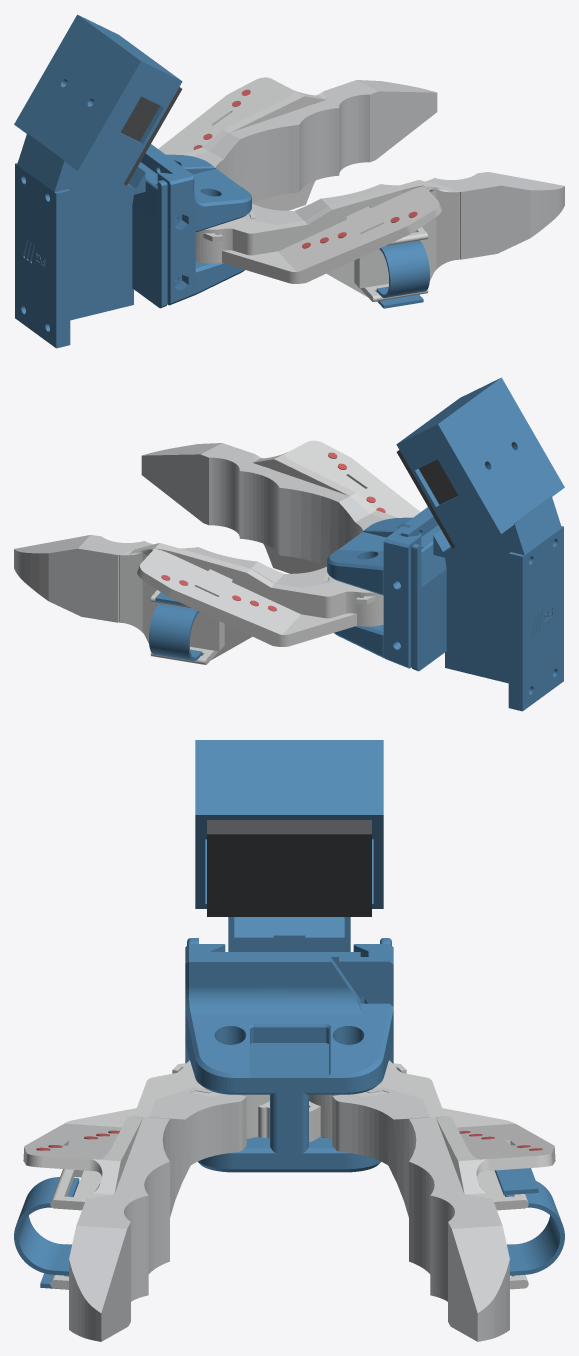
Rendered from pg_chopstick_data_d405.glb.
3 renders of one model, top to bottom at view 1: azimuth 30°, elevation 25°; view 2: azimuth 150°, elevation 25°; view 3: azimuth 270°, elevation 25°, orthographic. The views are drawn at different scales.
Parts seen in each view (by area): view 1: d405_frame, jaw_right_dc, tip_tpu_left, tip_tpu_right, chopstick_base_dc, jaw_left_dc, sleeve_strap_right, d405_envelope; view 2: d405_frame, jaw_left_dc, tip_tpu_right, tip_tpu_left, jaw_right_dc, chopstick_base_dc, chopstick_clip_dc, sleeve_strap_left, d405_envelope; view 3: chopstick_base_dc, d405_frame, tip_tpu_left, tip_tpu_right, d405_envelope, jaw_right_dc, jaw_left_dc, sleeve_strap_left, sleeve_strap_right, chopstick_clip_dc.
Boxes of the visible parts, x1,y1,x2,y2 form: d405_frame: [14, 14, 182, 348]; jaw_right_dc: [195, 180, 459, 301]; tip_tpu_left: [193, 80, 437, 202]; tip_tpu_right: [245, 172, 564, 259]; chopstick_base_dc: [140, 144, 251, 305]; jaw_left_dc: [158, 77, 326, 210]; sleeve_strap_right: [376, 240, 429, 308]; d405_envelope: [120, 87, 182, 185]; d405_frame: [396, 377, 564, 711]; jaw_left_dc: [119, 543, 383, 664]; tip_tpu_right: [141, 443, 385, 565]; tip_tpu_left: [14, 535, 333, 622]; jaw_right_dc: [252, 440, 420, 573]; chopstick_base_dc: [327, 507, 438, 657]; chopstick_clip_dc: [383, 526, 421, 668]; sleeve_strap_left: [149, 592, 202, 660]; d405_envelope: [396, 450, 458, 548]; chopstick_base_dc: [185, 944, 393, 1172]; d405_frame: [187, 740, 391, 1003]; tip_tpu_left: [332, 1087, 509, 1341]; tip_tpu_right: [69, 1087, 246, 1341]; d405_envelope: [207, 820, 371, 916]; jaw_right_dc: [23, 1060, 269, 1289]; jaw_left_dc: [309, 1060, 555, 1289]; sleeve_strap_left: [494, 1168, 564, 1275]; sleeve_strap_right: [14, 1177, 79, 1289]; chopstick_clip_dc: [339, 944, 393, 1063].
Size of the model in its own units: 0.2016 by 0.1149 by 0.14.
